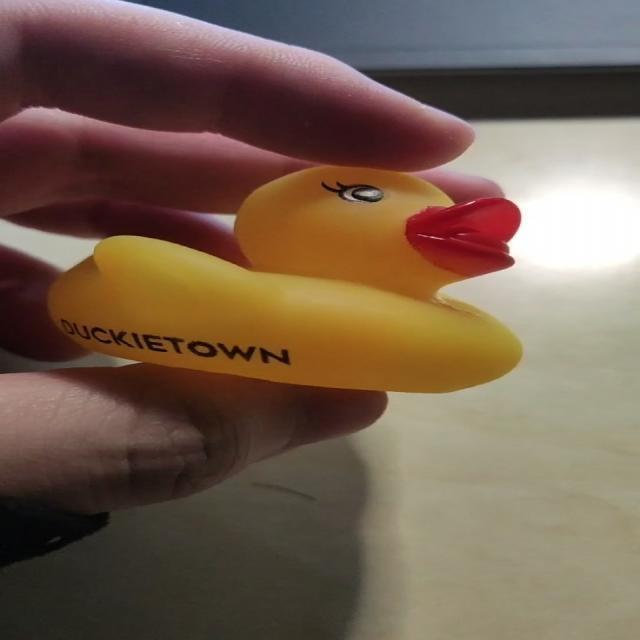rubber-duck: (48, 165, 520, 390)
